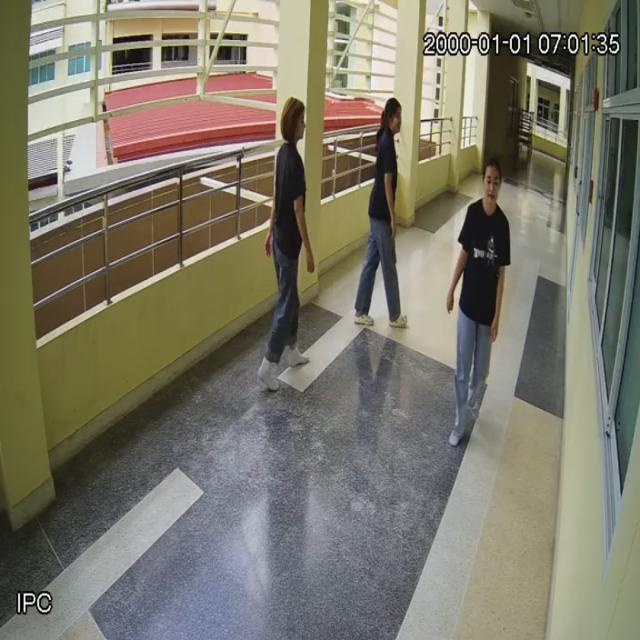normal: (437, 148, 517, 462), (257, 85, 318, 402), (353, 87, 415, 343)
